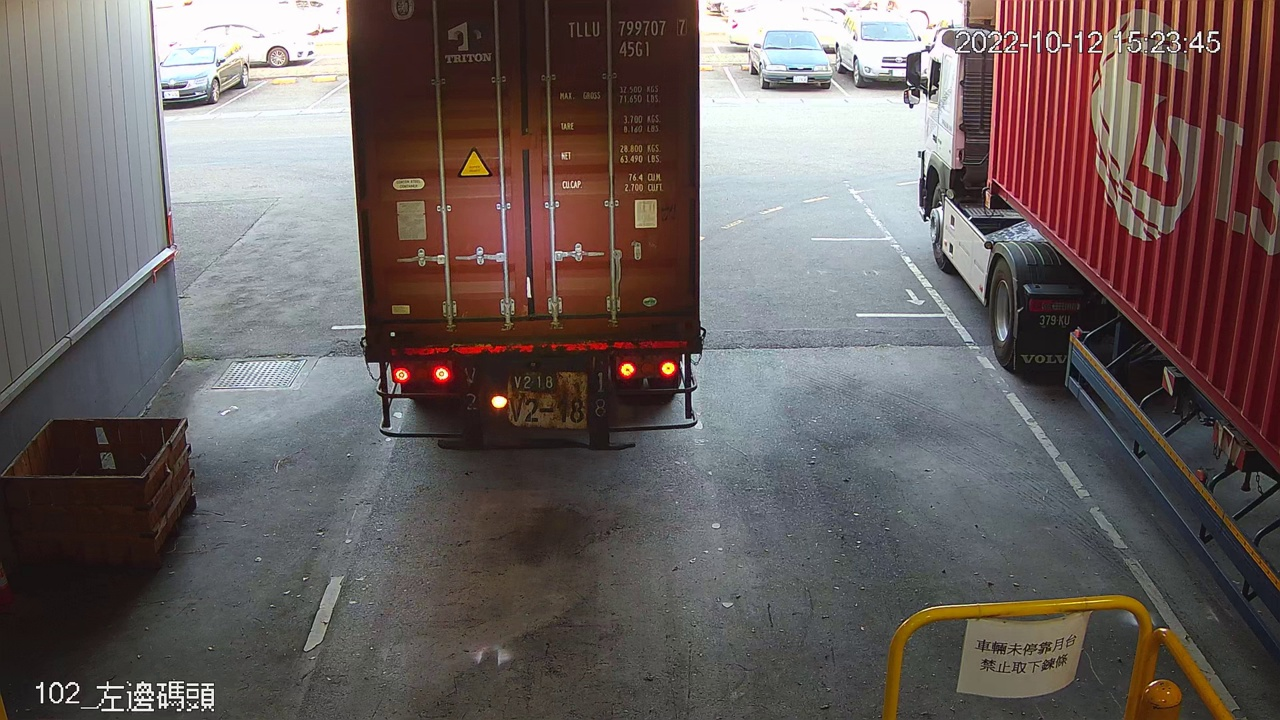container: (563, 12, 692, 62)
